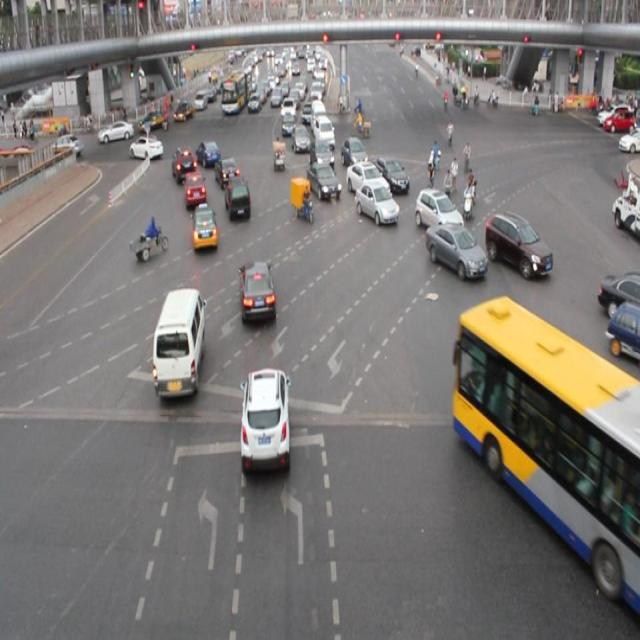car: (240, 368, 292, 478), (483, 213, 550, 275), (425, 223, 486, 277), (602, 304, 640, 364), (239, 261, 276, 322), (596, 269, 640, 319), (414, 188, 462, 232), (355, 180, 398, 224), (346, 160, 389, 196), (372, 156, 408, 192), (306, 160, 339, 198), (192, 203, 218, 251), (225, 176, 251, 222), (170, 147, 197, 184), (182, 169, 206, 210), (130, 134, 163, 162), (340, 136, 367, 169), (214, 154, 239, 187), (310, 138, 334, 170), (195, 139, 220, 169), (290, 122, 311, 154)
truck: (150, 288, 202, 398)
van: (455, 300, 640, 610)
